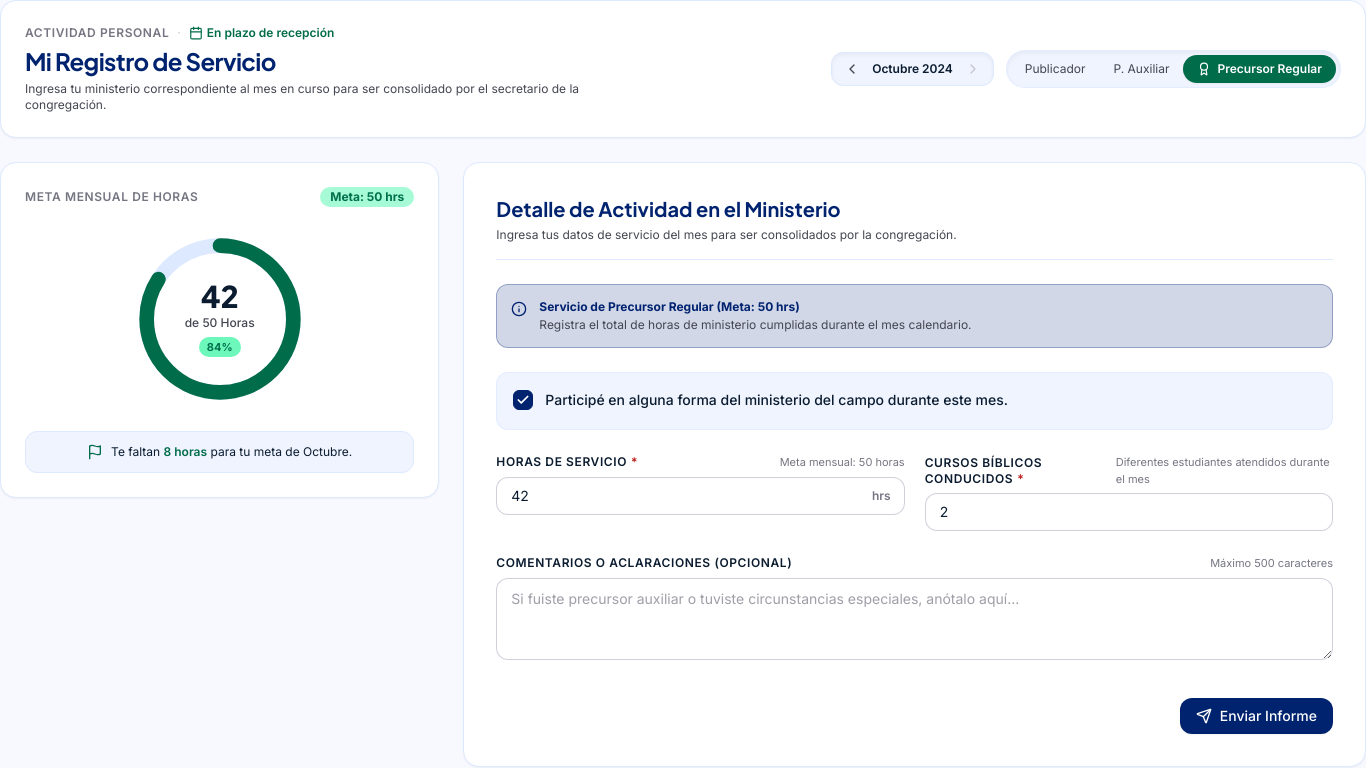
Scenario: MonthlyReportPage › muestra la tarjeta de registro simplificado cuando se cambia el rol a Publicador
Step 1. Click the radio button labelled "Publicador" → click(1055, 69), box [1011,55,1100,83]
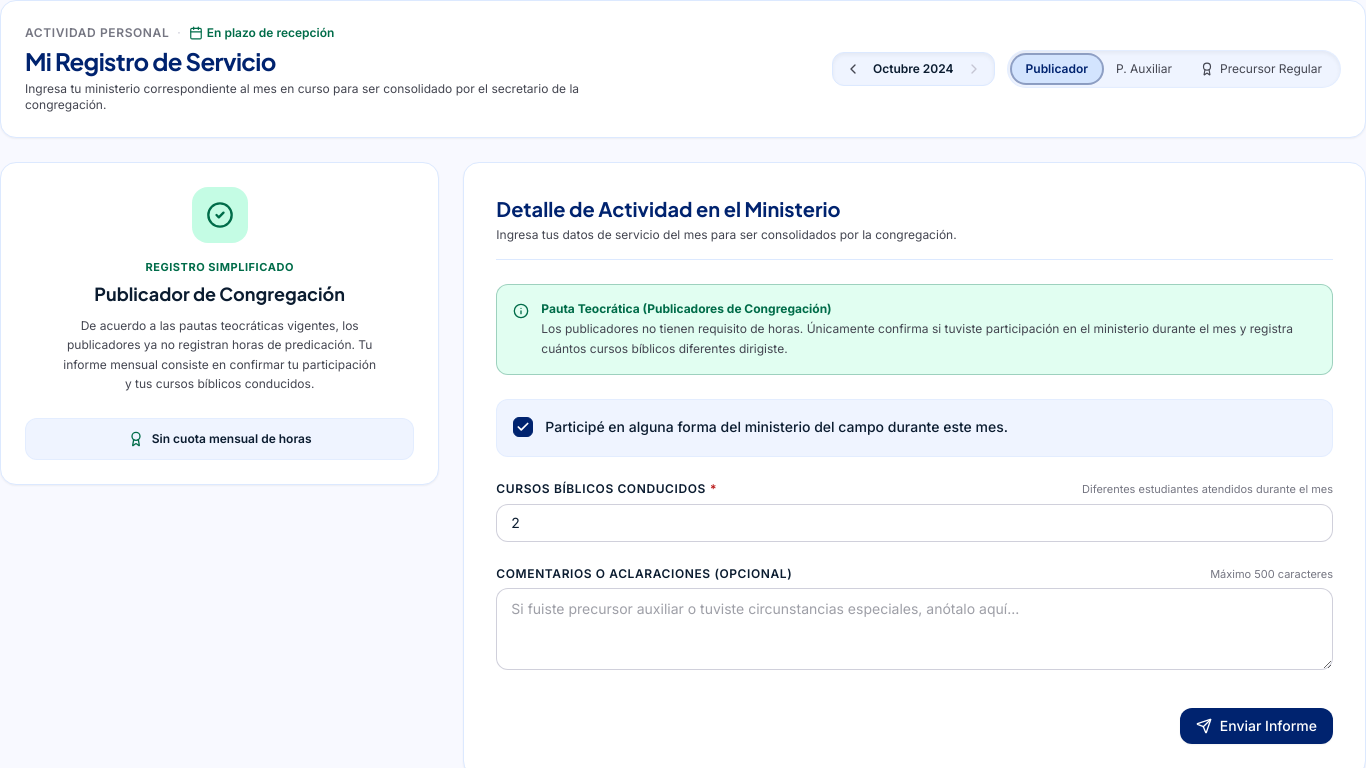
Now the heading "Publicador de Congregación" is shown, box [94,282,345,304]
Now the text "Sin cuota mensual de horas" is shown, box [152,430,312,446]
Now the label labelled "Horas de Servicio" is gone
